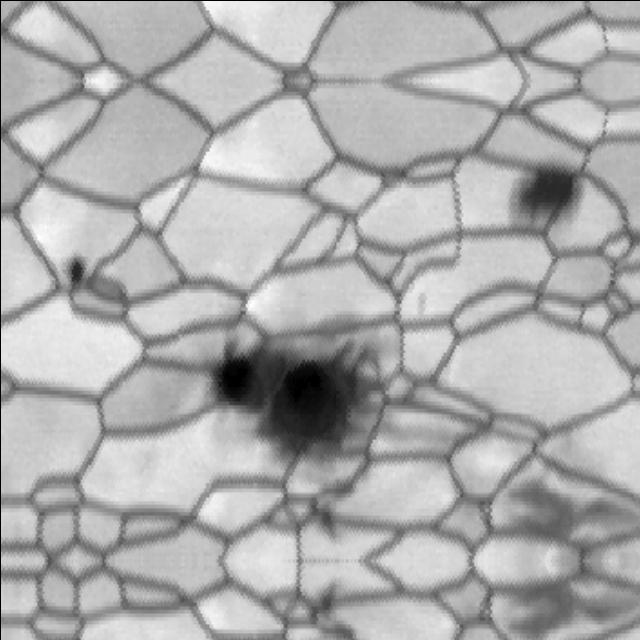good_void: (200, 316, 412, 479), (509, 470, 639, 560), (509, 562, 635, 640), (506, 156, 595, 234), (282, 481, 355, 546), (282, 573, 355, 638), (43, 240, 106, 304), (403, 282, 435, 312)
